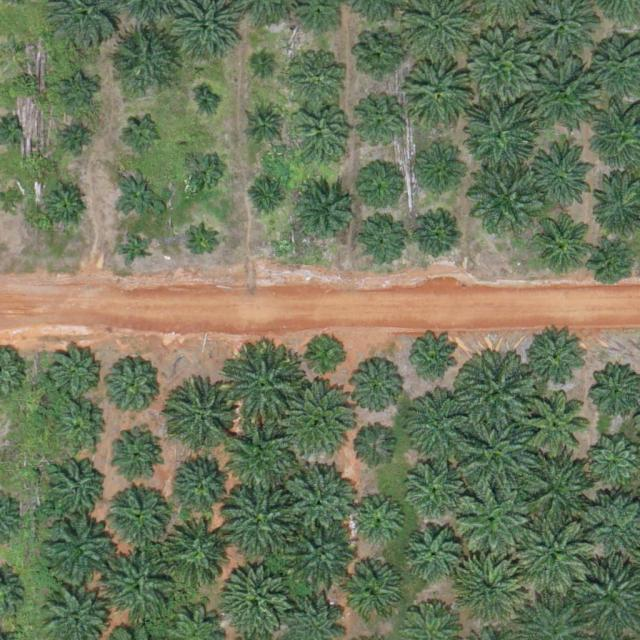Healthy: (520, 517, 598, 596), (457, 354, 535, 433), (226, 351, 304, 430), (459, 413, 537, 491), (160, 519, 231, 590), (523, 454, 593, 525), (453, 556, 523, 627), (406, 389, 477, 459), (285, 465, 355, 536), (288, 386, 358, 457), (227, 425, 298, 495), (42, 517, 112, 588), (530, 55, 600, 126), (467, 27, 537, 98), (464, 99, 534, 170), (401, 57, 472, 127), (460, 484, 530, 554), (288, 520, 358, 590), (222, 488, 292, 558), (220, 563, 290, 633), (104, 554, 174, 624), (527, 147, 597, 217), (470, 162, 540, 232), (109, 25, 179, 95), (527, 398, 590, 461), (174, 452, 237, 515), (292, 181, 355, 244), (526, 328, 588, 391), (342, 563, 405, 625), (102, 354, 164, 417), (110, 485, 172, 548), (171, 388, 233, 450), (45, 456, 107, 518), (406, 461, 461, 516), (349, 362, 404, 417), (349, 494, 404, 549), (106, 427, 161, 482), (48, 347, 103, 402), (533, 217, 588, 272), (410, 143, 465, 198), (289, 51, 344, 106), (294, 109, 349, 164), (407, 526, 461, 581), (56, 399, 110, 454), (358, 103, 405, 151), (360, 217, 407, 265), (592, 442, 639, 489), (416, 215, 463, 262), (594, 368, 640, 416)
Small: (406, 333, 460, 388), (350, 427, 397, 475), (357, 32, 404, 79), (42, 182, 89, 229), (115, 171, 162, 218), (182, 152, 222, 192), (358, 169, 397, 209), (248, 180, 287, 220), (308, 335, 348, 374), (592, 242, 631, 282), (60, 73, 99, 112), (125, 116, 164, 155), (186, 229, 217, 261), (64, 122, 95, 154), (120, 234, 151, 266), (250, 109, 281, 140), (255, 53, 279, 77), (196, 92, 219, 116)
